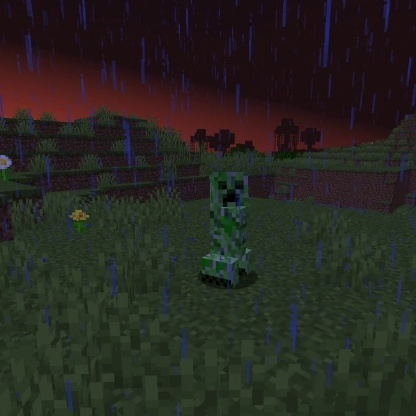creeper: (196, 169, 257, 292)
